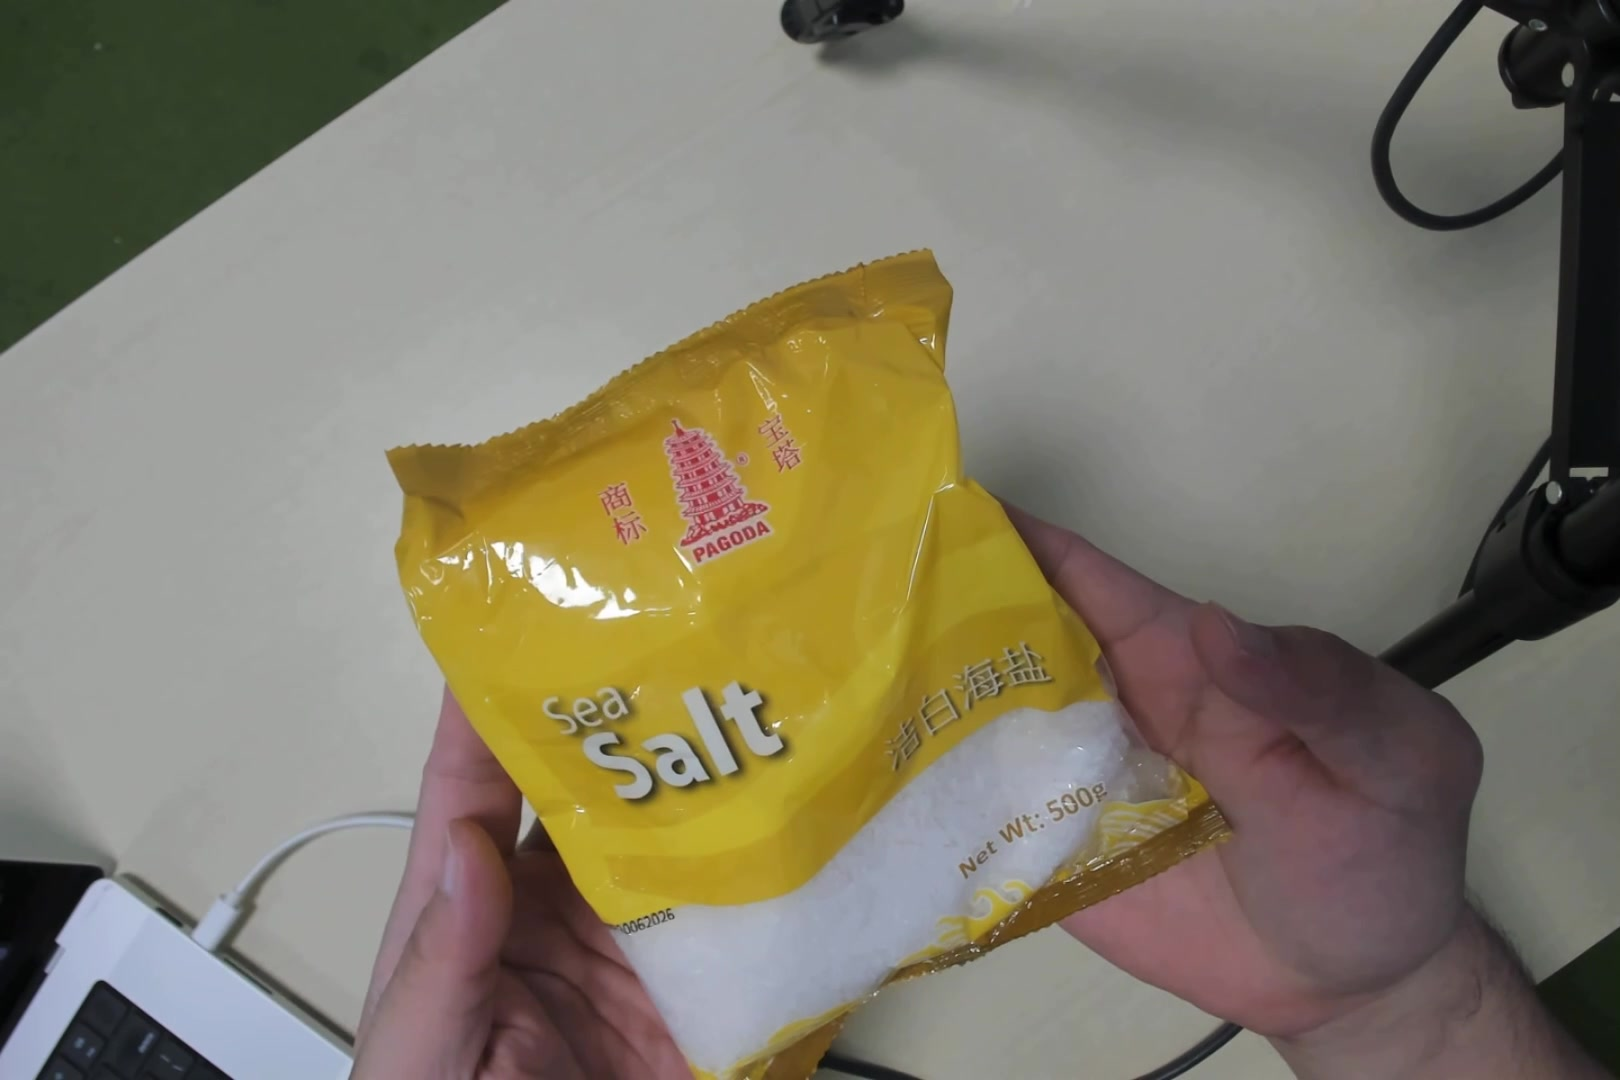Salt_500-599g_Halal_NonHealthy: (475, 342, 1143, 1040)
